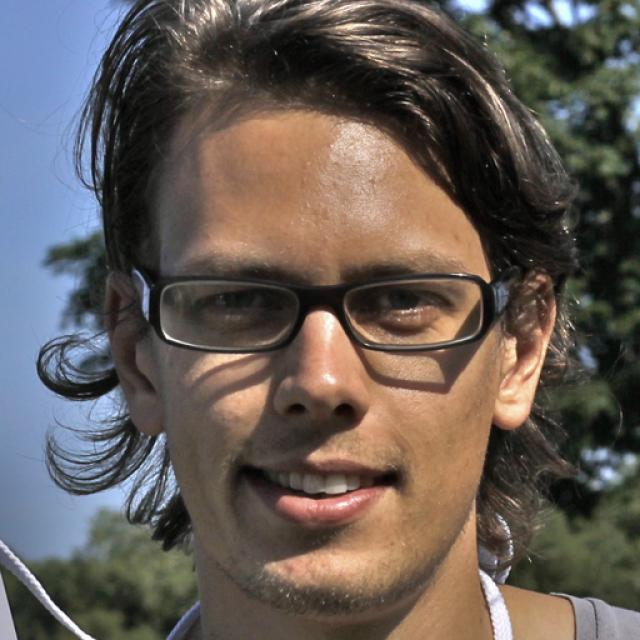content: (158, 118, 498, 612)
